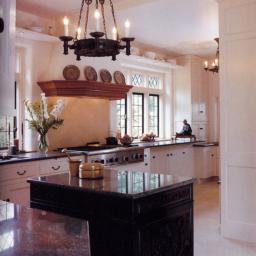Electrodomestico: (67, 145, 146, 164)
